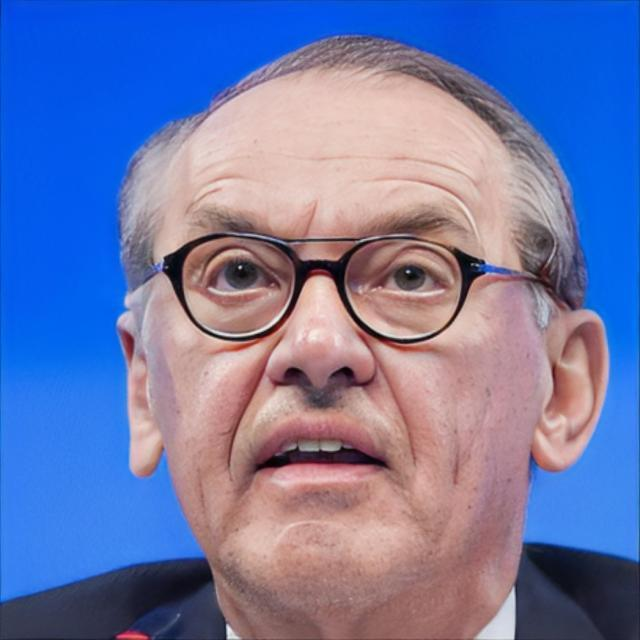disgust: (160, 102, 530, 640)
